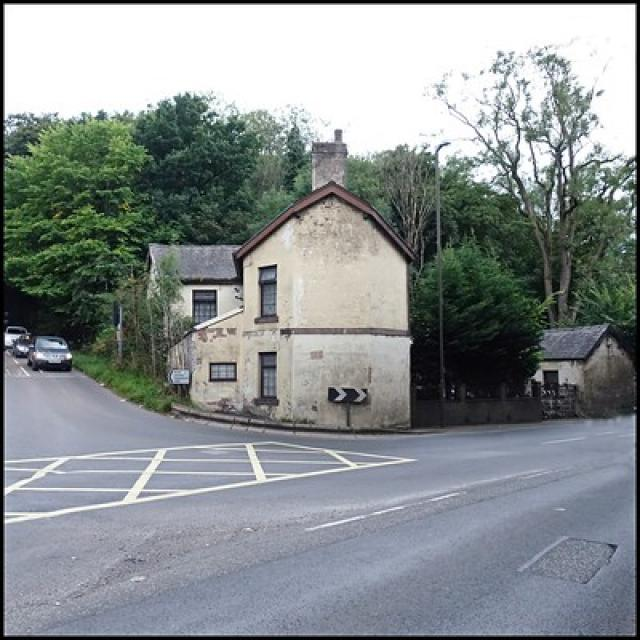Normal_building: (139, 187, 419, 435), (510, 320, 637, 422)
